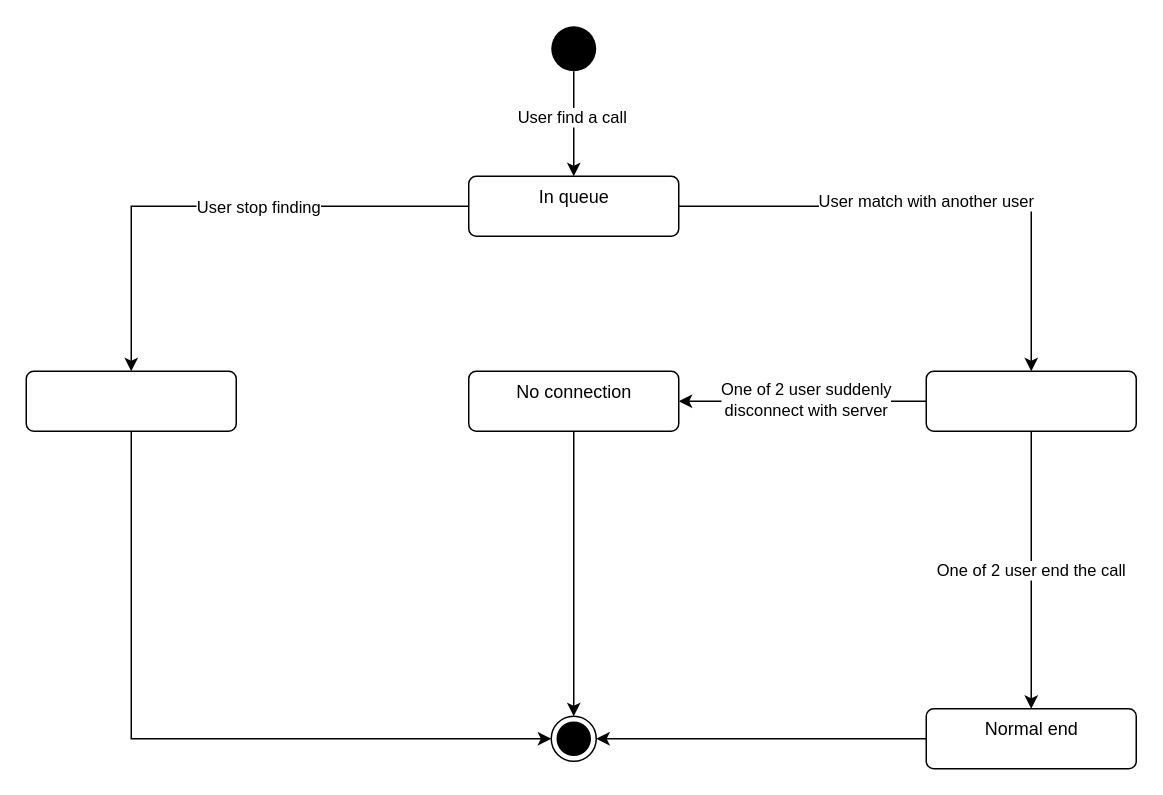
This 1163x795 diagram has some shape labels left out. Each missing label, with the box of its shape:
In call: (925, 370, 1136, 431)
Stop finding: (25, 370, 236, 431)
